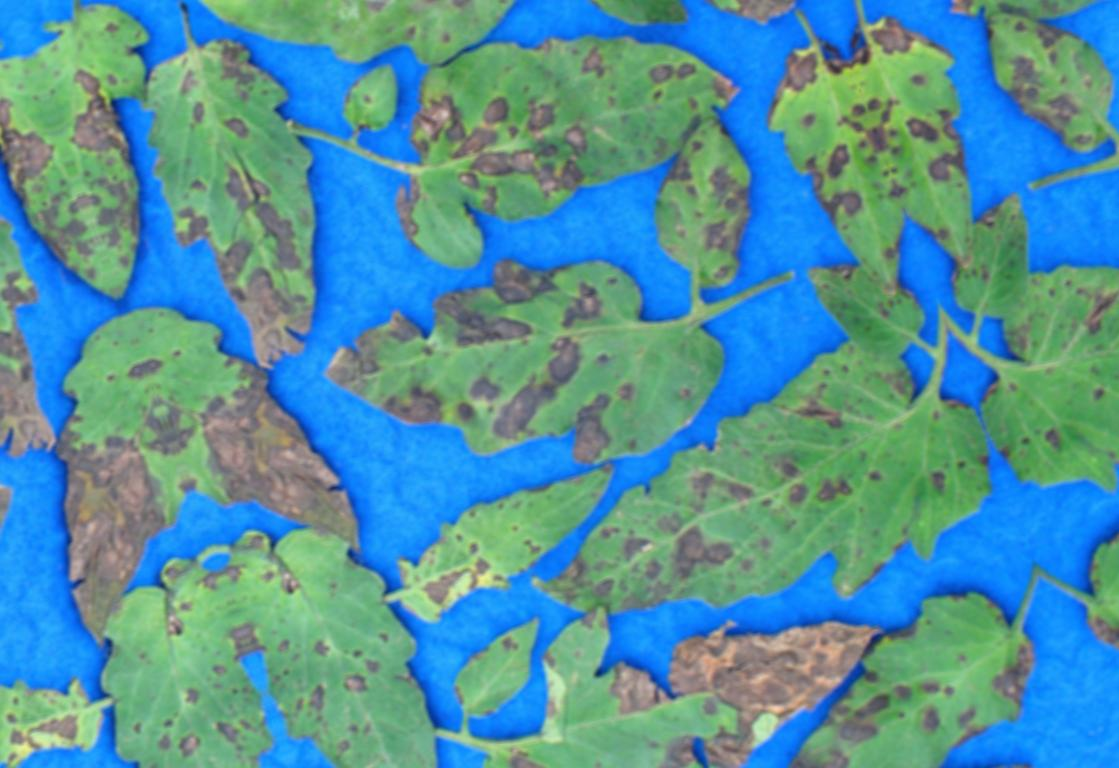Tomato Early blight leaf: (455, 290, 1019, 697), (313, 200, 748, 539), (362, 0, 774, 279), (115, 18, 379, 394), (123, 260, 369, 602), (719, 561, 1081, 768), (214, 484, 469, 768), (17, 0, 222, 312), (738, 0, 931, 314), (154, 0, 600, 130), (366, 452, 644, 641), (418, 601, 581, 747), (768, 712, 1079, 768), (562, 0, 817, 62), (292, 734, 487, 768), (555, 0, 682, 47)
